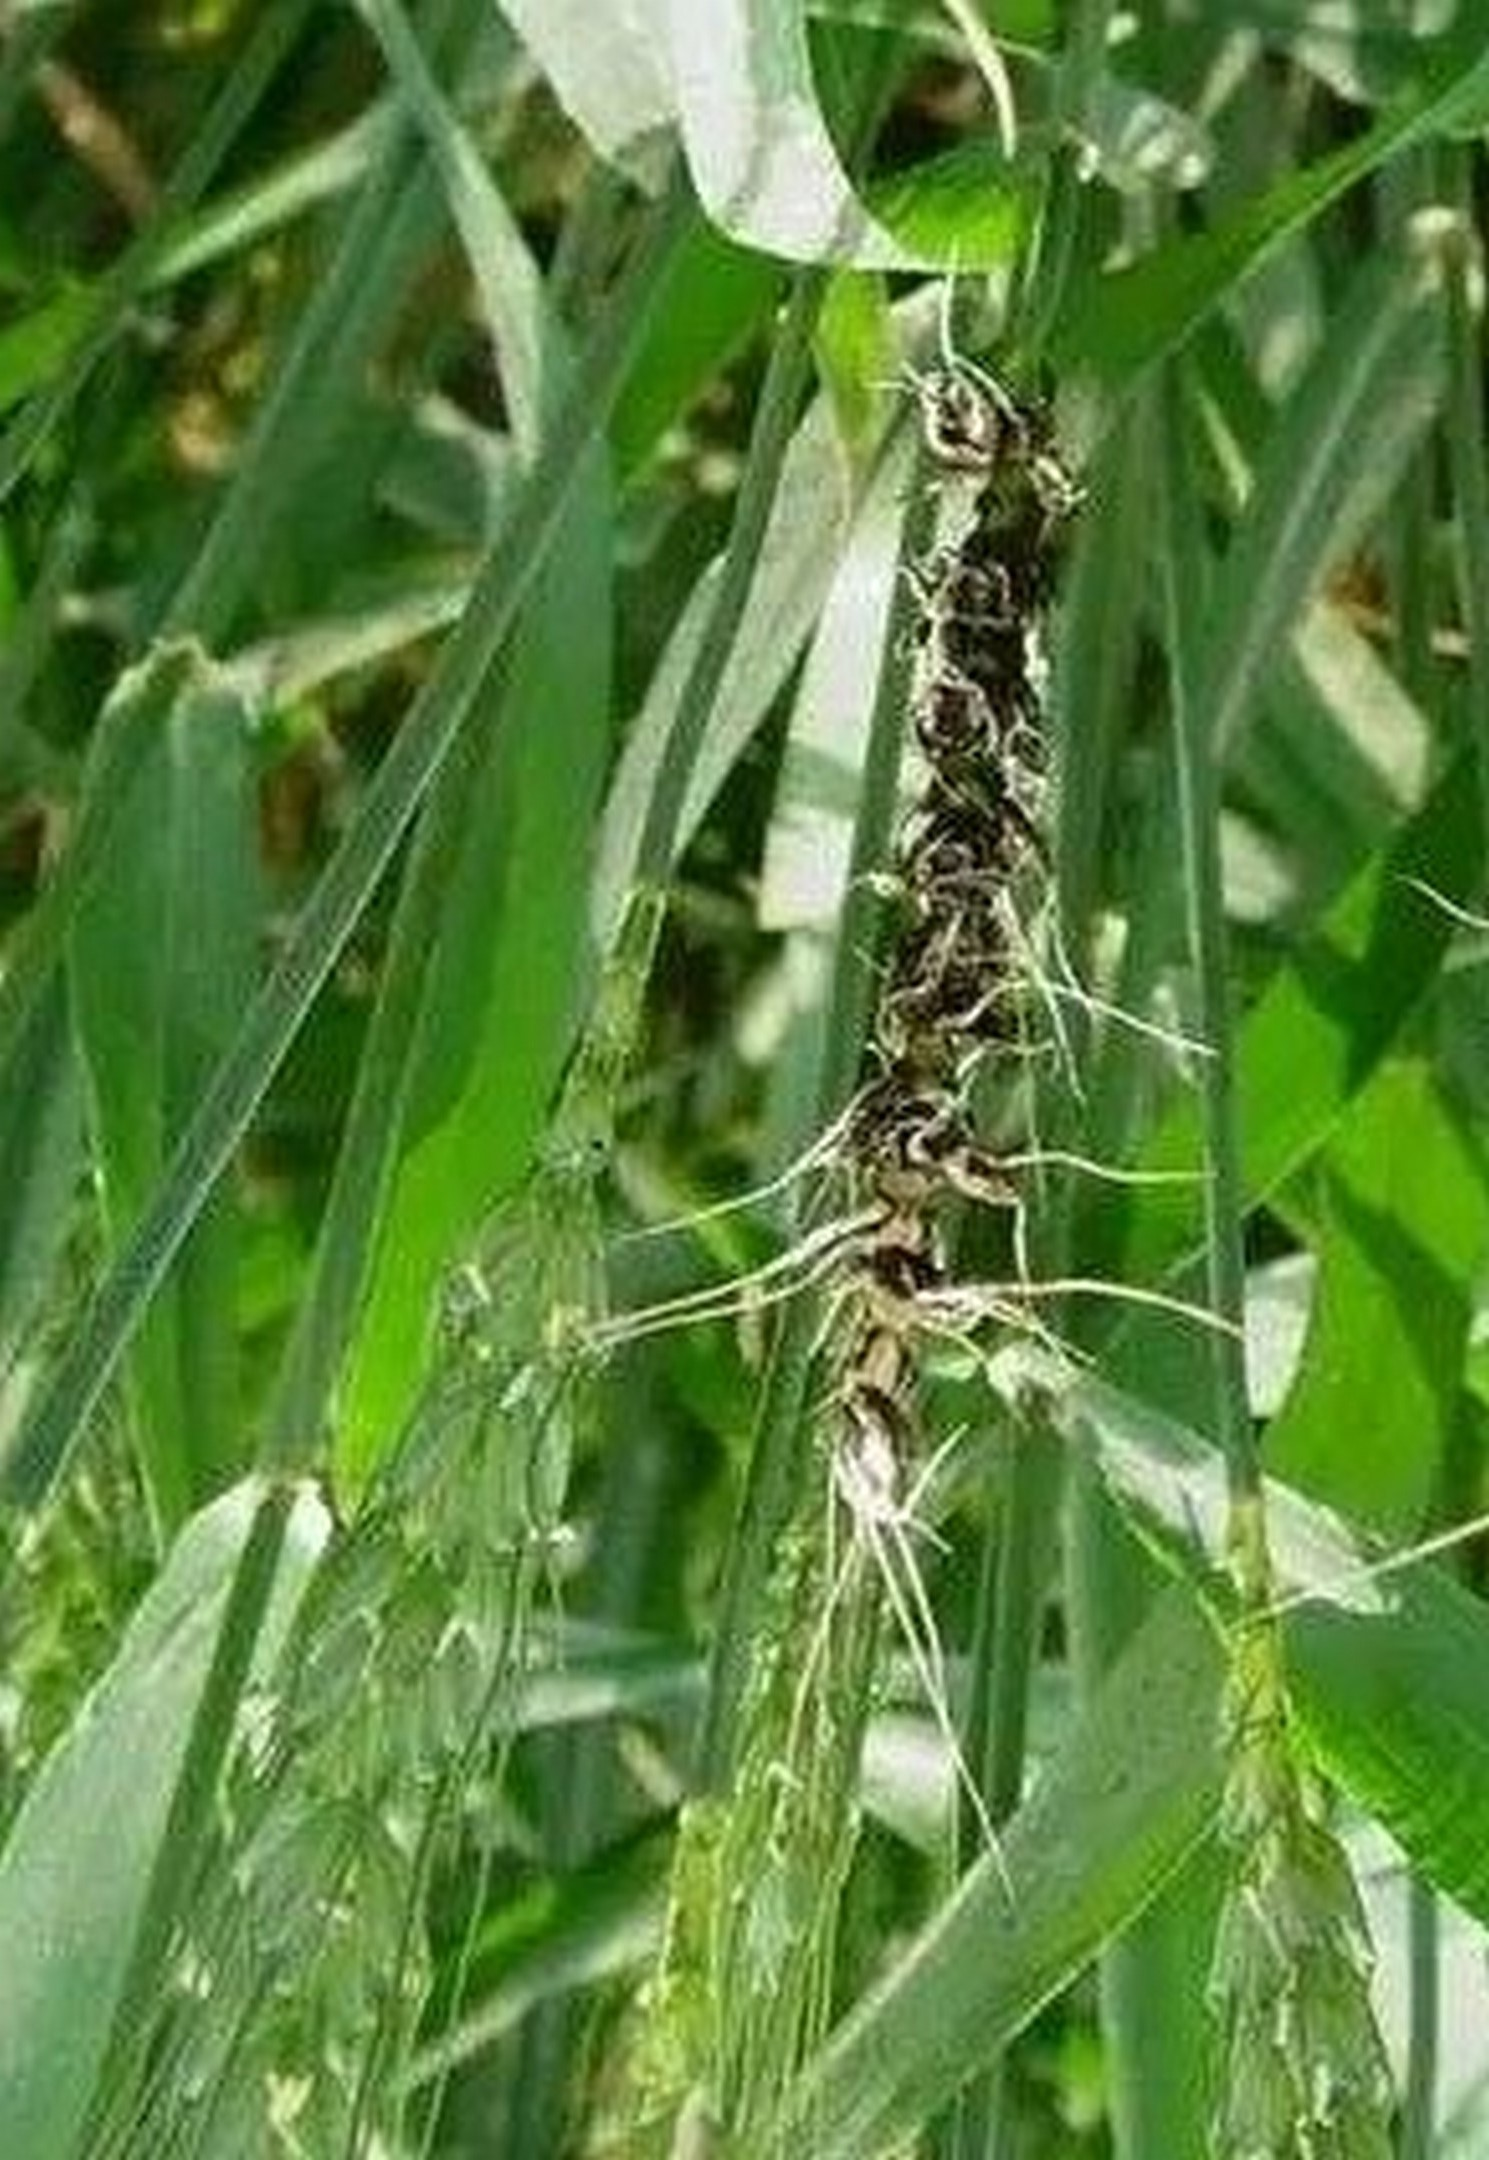Wheat Loose Smut: (785, 405, 1093, 1367)
